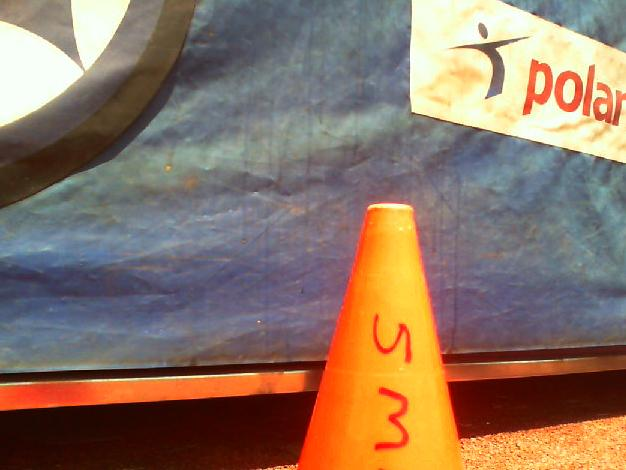0 cone: (295, 204, 463, 470)
